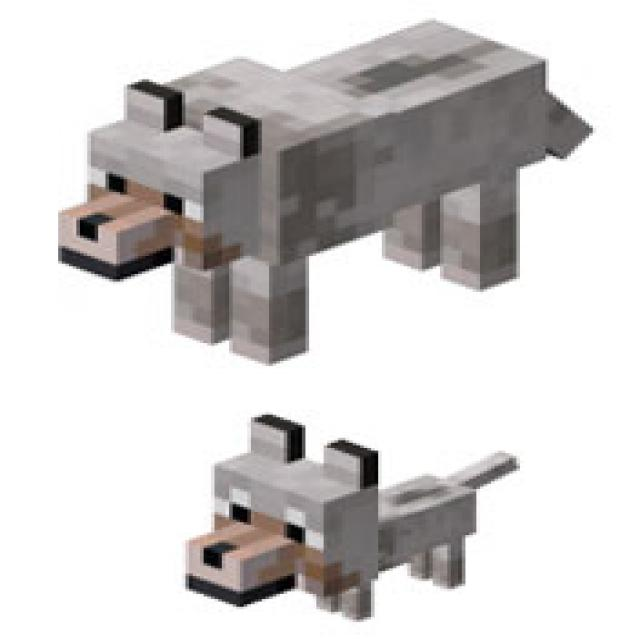Wolf: (54, 15, 596, 366), (171, 412, 524, 625)
